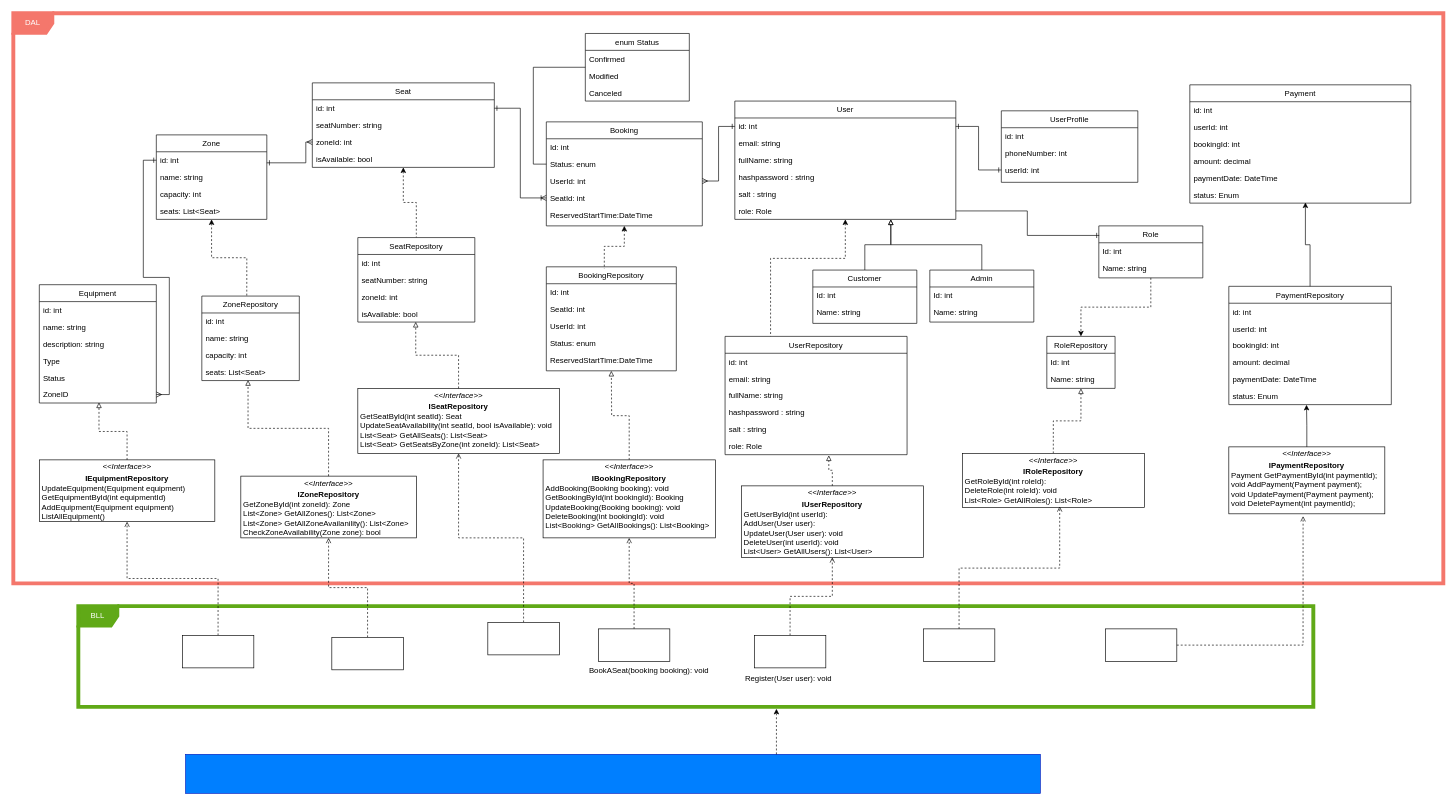
This 1456x805 diagram has some shape labels left out. Here are the shapes that lost their labels. From the top down, the centre of each, then its label:
(218,651): EquipmentService
(367,653): ZoneService
(523,638): SeatService
(634,644): BookingService
(790,651): UserService
(959,644): RoleService
(1141,644): PaymentService
(612,773): Presentation Layer
